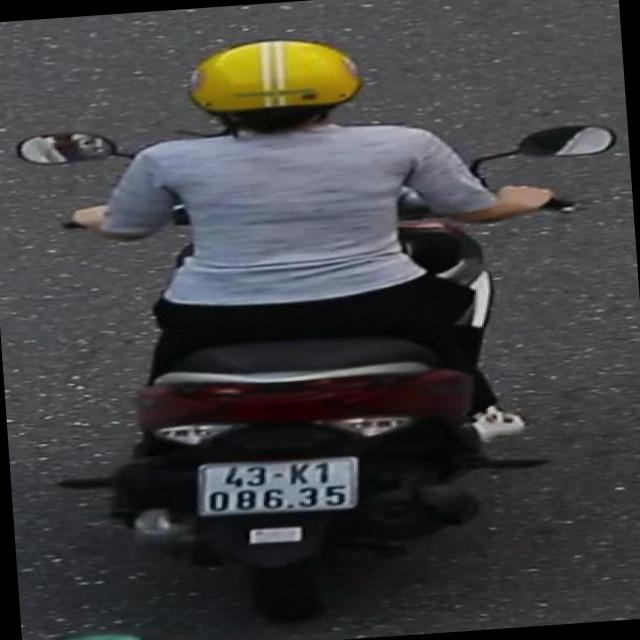LP: (186, 447, 370, 526)
helmet: (177, 29, 374, 146), (23, 623, 169, 640)
